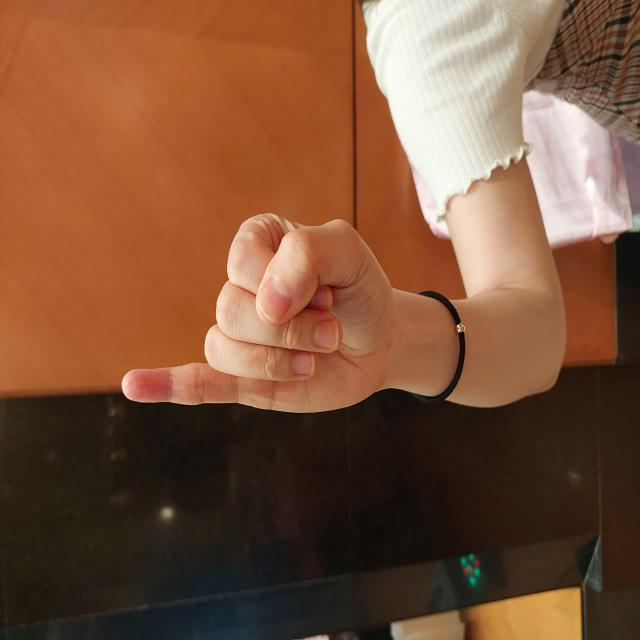I: (225, 120, 430, 398)
